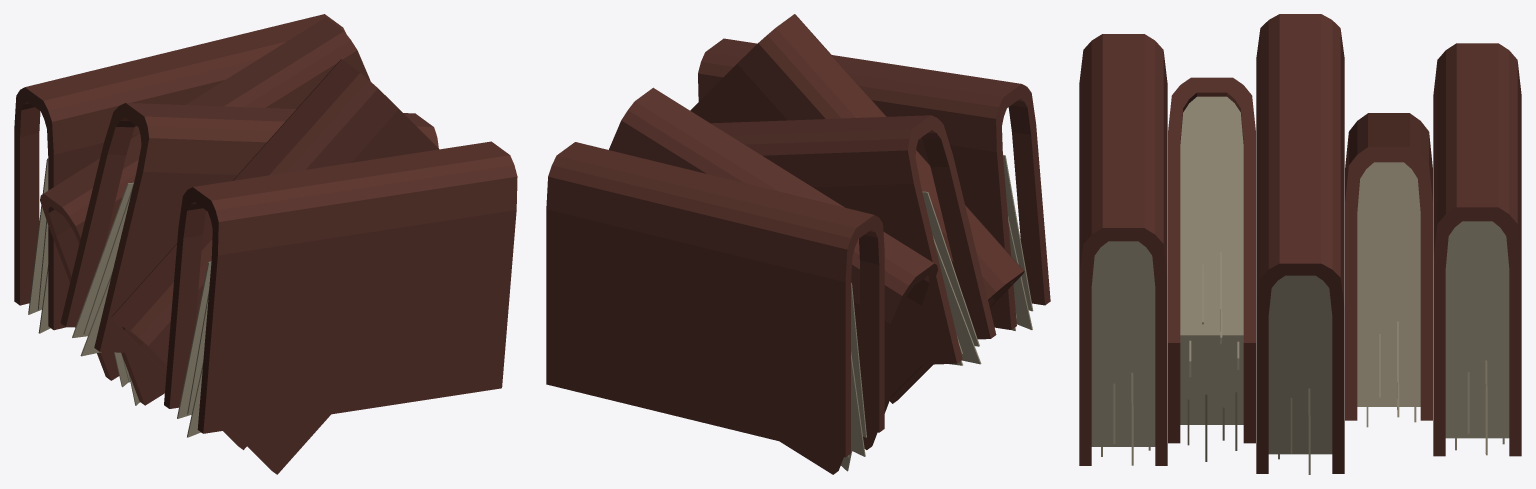
3 views of the same model, side by side, from view 1: azimuth 30°, elevation 25°; view 2: azimuth 150°, elevation 25°; view 3: azimuth 270°, elevation 25° (orthographic). The views are drawn at different scales.
Visible parts, largest first — view 1: part_1, part_5, part_9, part_3, part_7, part_4, part_0, part_8; view 2: part_9, part_5, part_1, part_7, part_3, part_4, part_0, part_8; view 3: part_5, part_1, part_9, part_2, part_6, part_8, part_0, part_4, part_7, part_3.
Boxes of the visible parts, x1,y1,x2,y2 form: part_1: (164, 141, 517, 433); part_5: (60, 103, 438, 353); part_9: (14, 14, 345, 330); part_3: (111, 59, 438, 474); part_7: (40, 17, 370, 405); part_4: (72, 182, 133, 356); part_0: (177, 261, 211, 437); part_8: (28, 158, 50, 333); part_9: (546, 142, 884, 457); part_5: (711, 115, 996, 365); part_1: (698, 38, 1050, 329); part_7: (609, 87, 937, 474); part_3: (690, 14, 1024, 403); part_4: (922, 191, 981, 365); part_0: (1003, 154, 1033, 330); part_8: (846, 283, 866, 457); part_5: (1256, 14, 1344, 473); part_1: (1079, 34, 1167, 465); part_9: (1433, 43, 1521, 456); part_2: (1180, 96, 1243, 461); part_6: (1357, 162, 1420, 427); part_8: (1445, 221, 1509, 455); part_0: (1091, 241, 1155, 465); part_4: (1268, 275, 1332, 474); part_7: (1345, 113, 1432, 420); part_3: (1168, 77, 1255, 443).
Bounding box in the file's own units: 0.2176 × 0.214 × 0.2.
